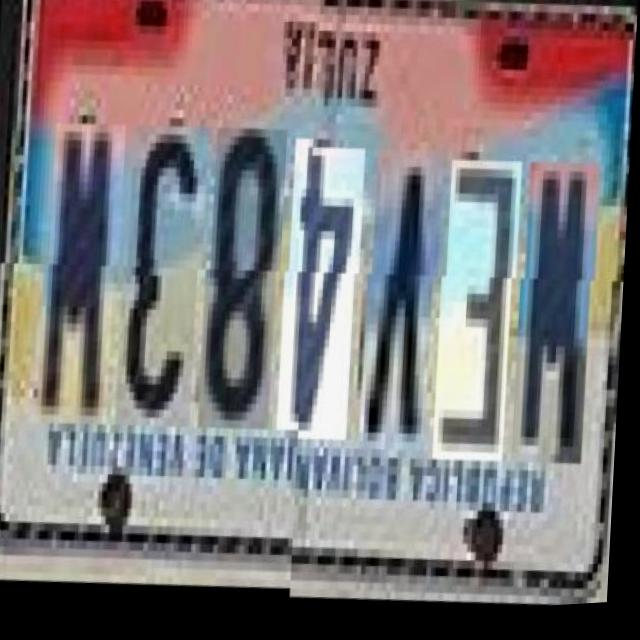3: (119, 132, 207, 442)
4: (281, 145, 363, 445)
8: (203, 135, 285, 442)
e: (438, 157, 520, 465)
v: (364, 148, 442, 463)
w: (516, 159, 599, 467), (41, 131, 123, 439)
